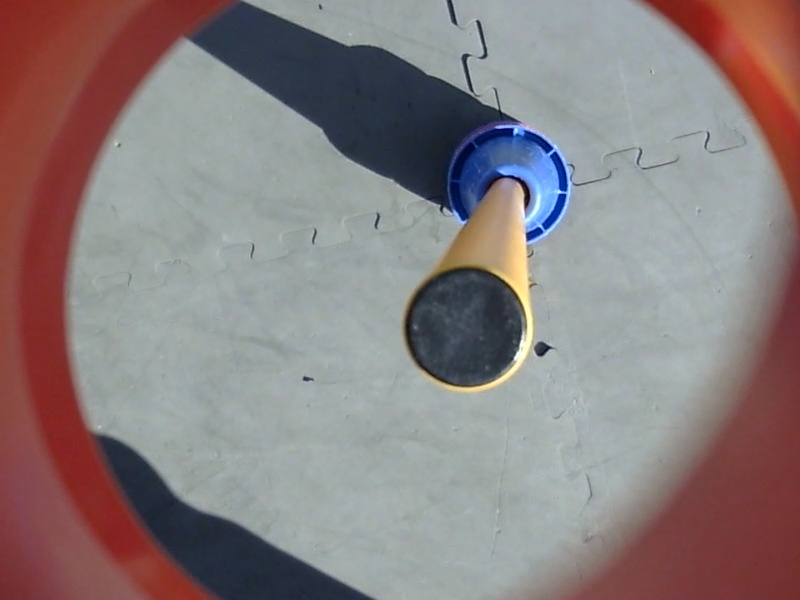tip: (398, 261, 541, 398)
